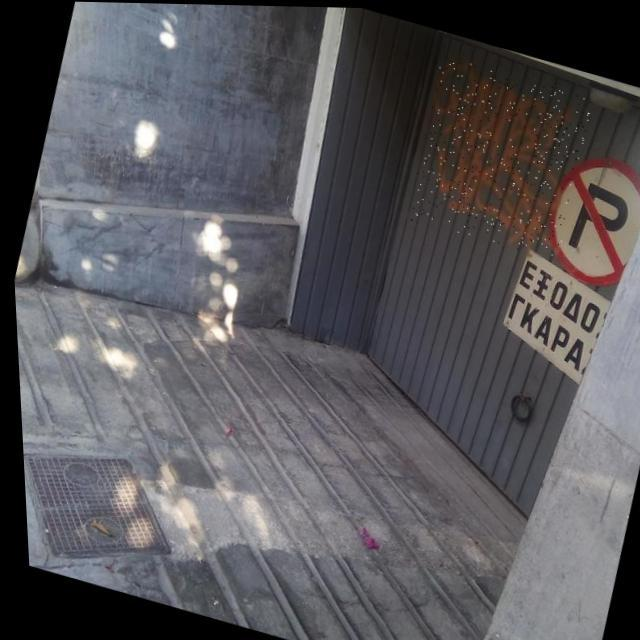-: (397, 52, 598, 260)
